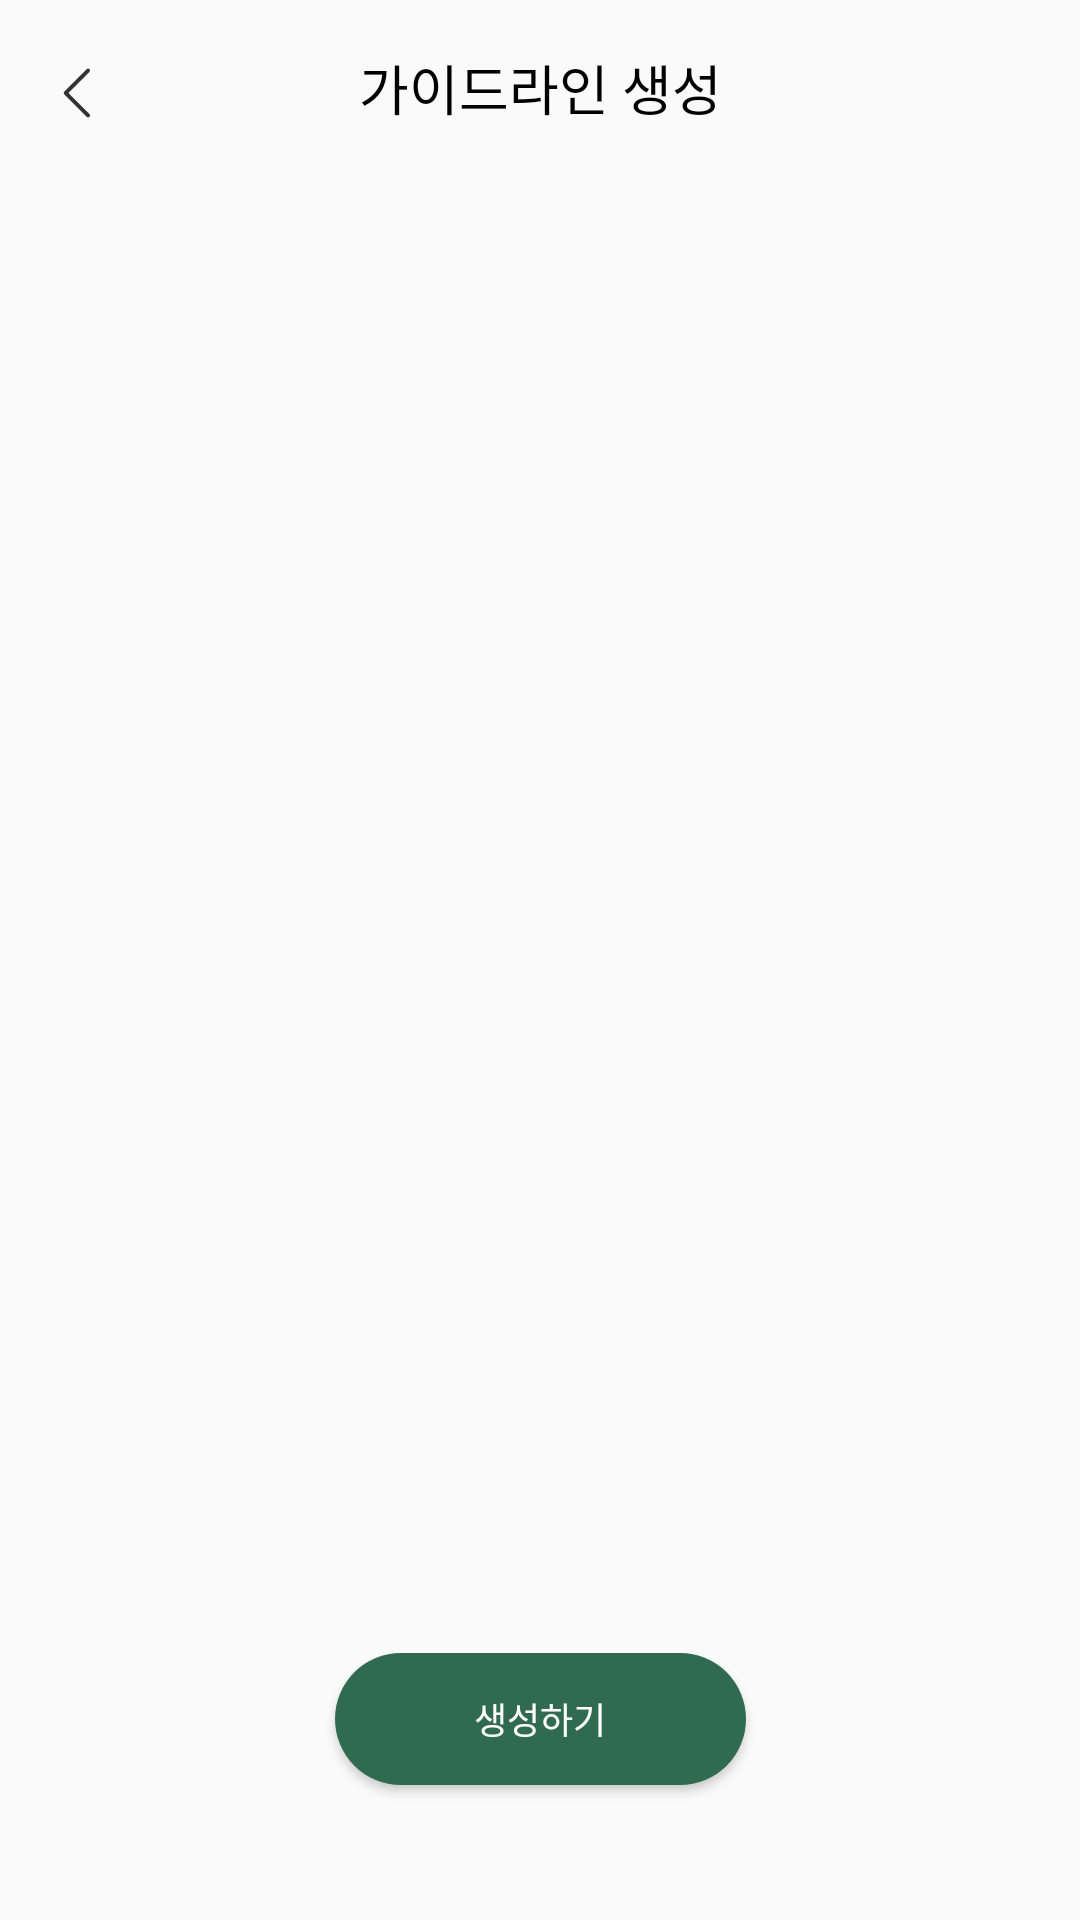

Where to tap for icons on this 1080px×1920px app screen, as (x,y):
뒤로 가기: (76,93)
